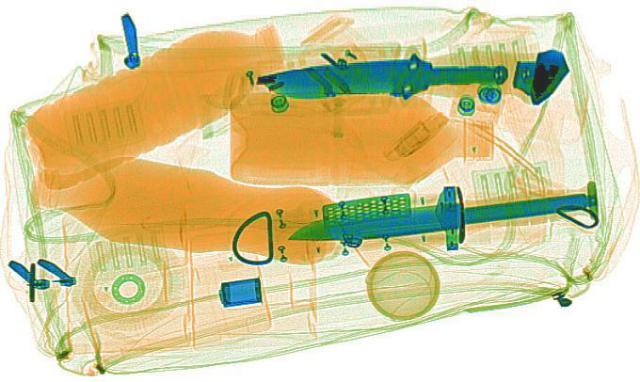Knife: (274, 168, 600, 266), (252, 45, 510, 104)
